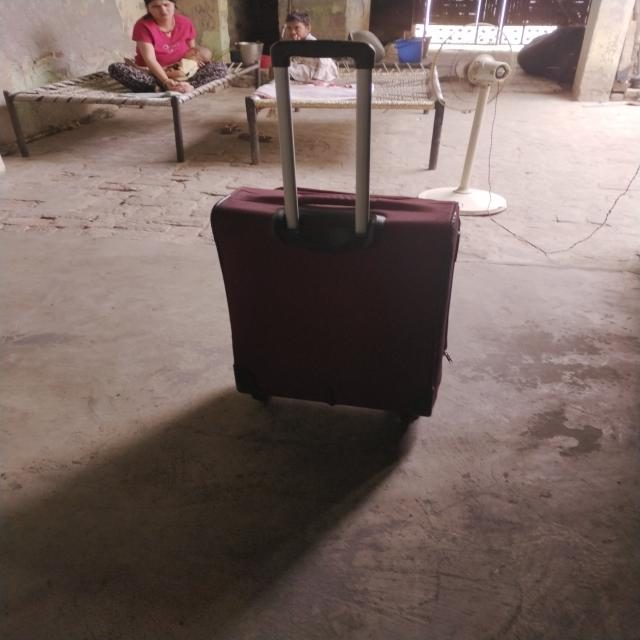suitcaserotation: (205, 37, 464, 423)
